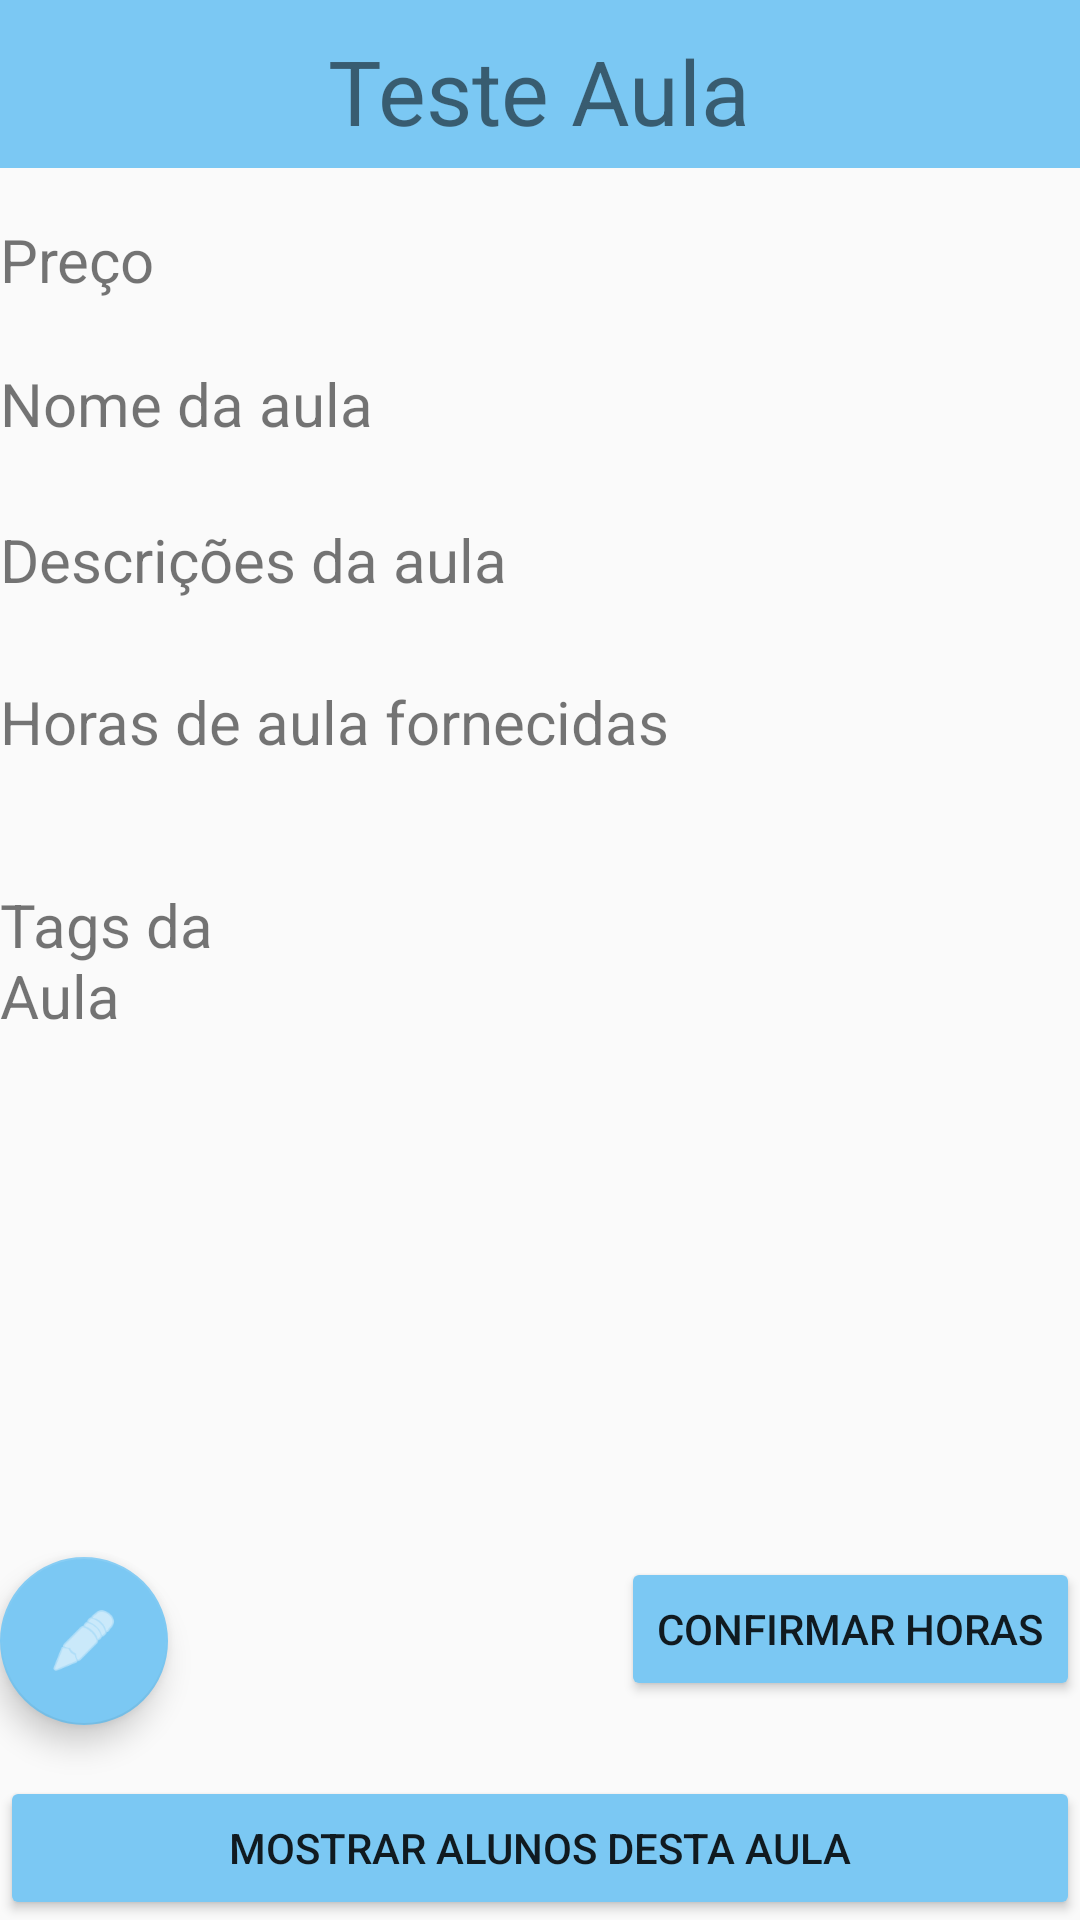

Icons on this 1080px x 1920px Android screen, each with the point to tap as (x,y):
edit: (84,1641)
